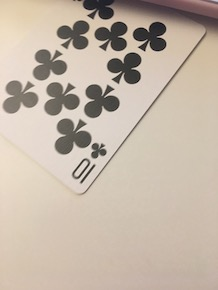TenOfClubs: (1, 1, 207, 196)
